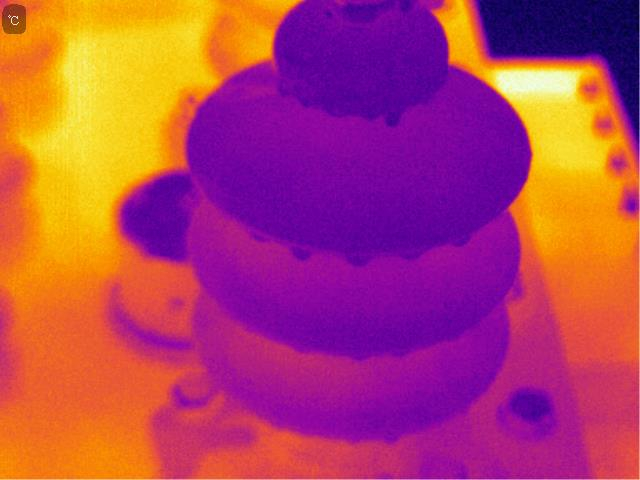Water: (398, 243, 425, 264), (341, 350, 372, 368), (381, 107, 405, 129), (447, 234, 475, 252), (320, 103, 350, 119), (291, 345, 325, 359), (288, 242, 314, 260), (340, 250, 370, 265), (380, 431, 408, 447), (388, 344, 414, 360), (244, 232, 271, 247), (298, 90, 314, 113), (274, 81, 289, 99), (361, 111, 382, 123)
